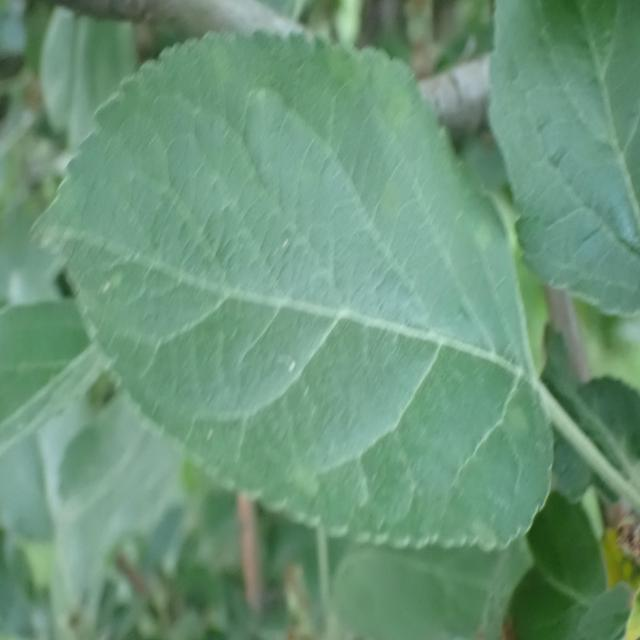scab: (171, 9, 495, 287)
